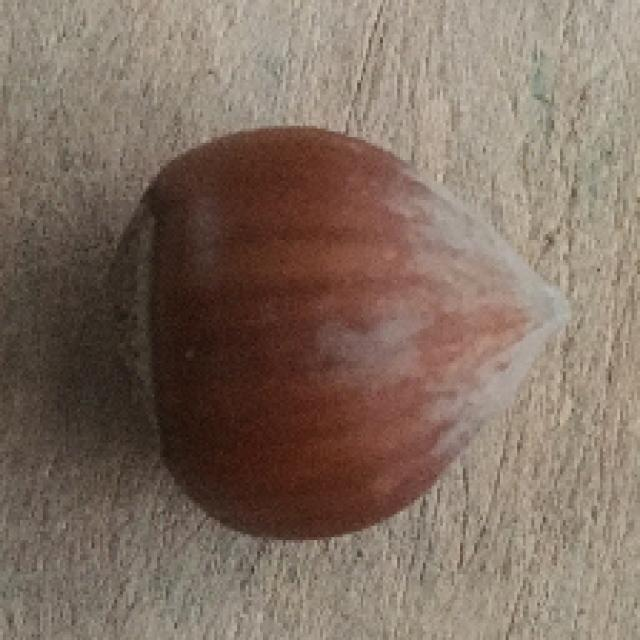QualityHazelnut: (102, 124, 578, 541)
